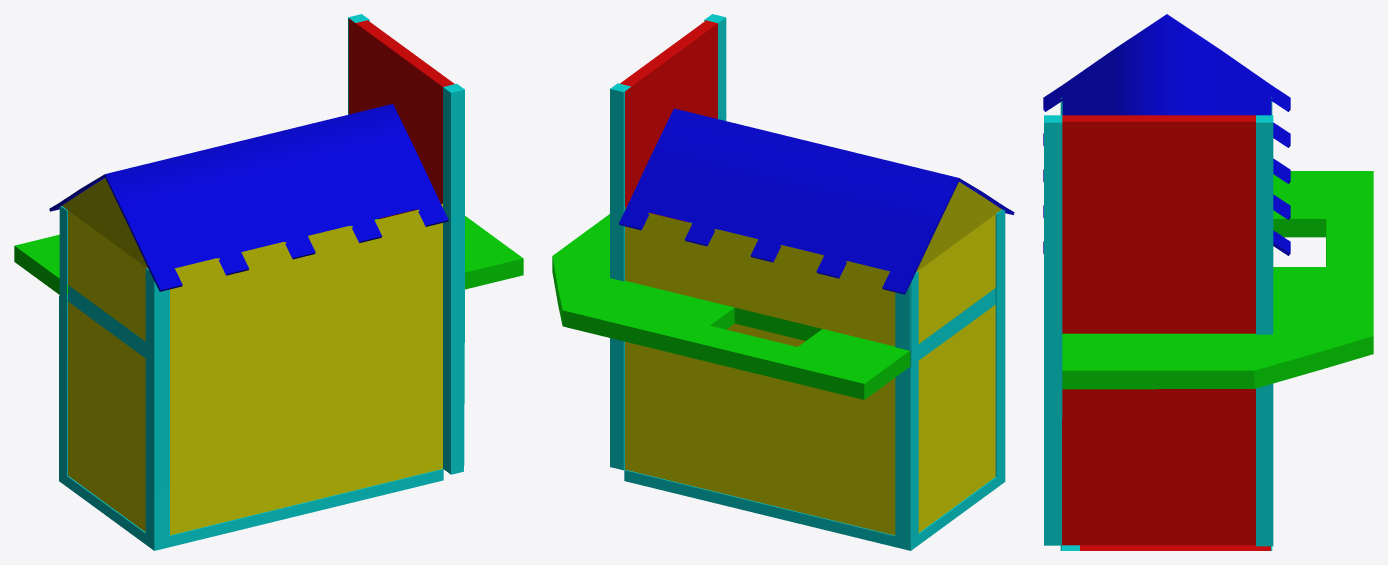
File: Hotel_main_body_v.fbx
3 views of the same model, side by side, from view 1: azimuth 30°, elevation 25°; view 2: azimuth 150°, elevation 25°; view 3: azimuth 270°, elevation 25° (orthographic). The views are drawn at different scales.
Visible parts, largest first — view 1: Roof; view 2: Roof; view 3: Roof.
Boxes of the visible parts, bbox=[...] form: Roof: bbox=[14, 14, 523, 550]; Roof: bbox=[552, 14, 1014, 550]; Roof: bbox=[1043, 14, 1373, 550].
Size of the model in its own units: 992 by 1002 by 689.
